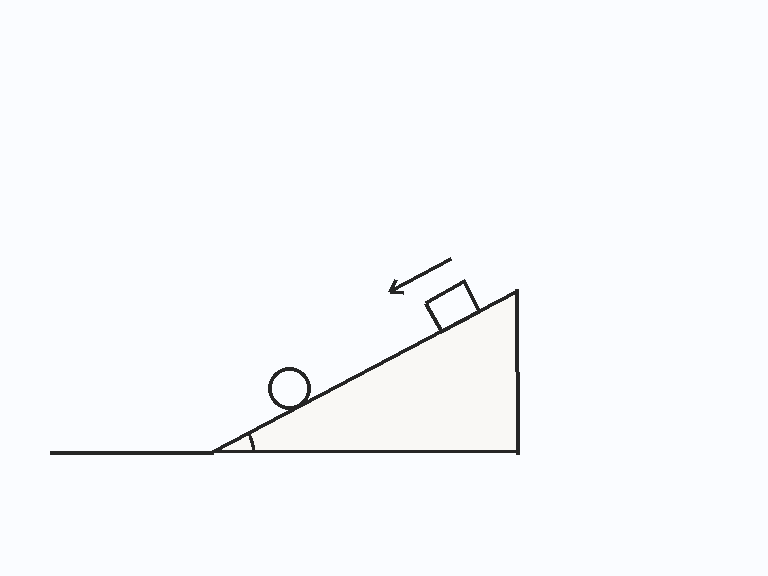ball: (266, 365, 312, 411)
block: (423, 280, 481, 333)
ramp: (211, 288, 519, 454)
